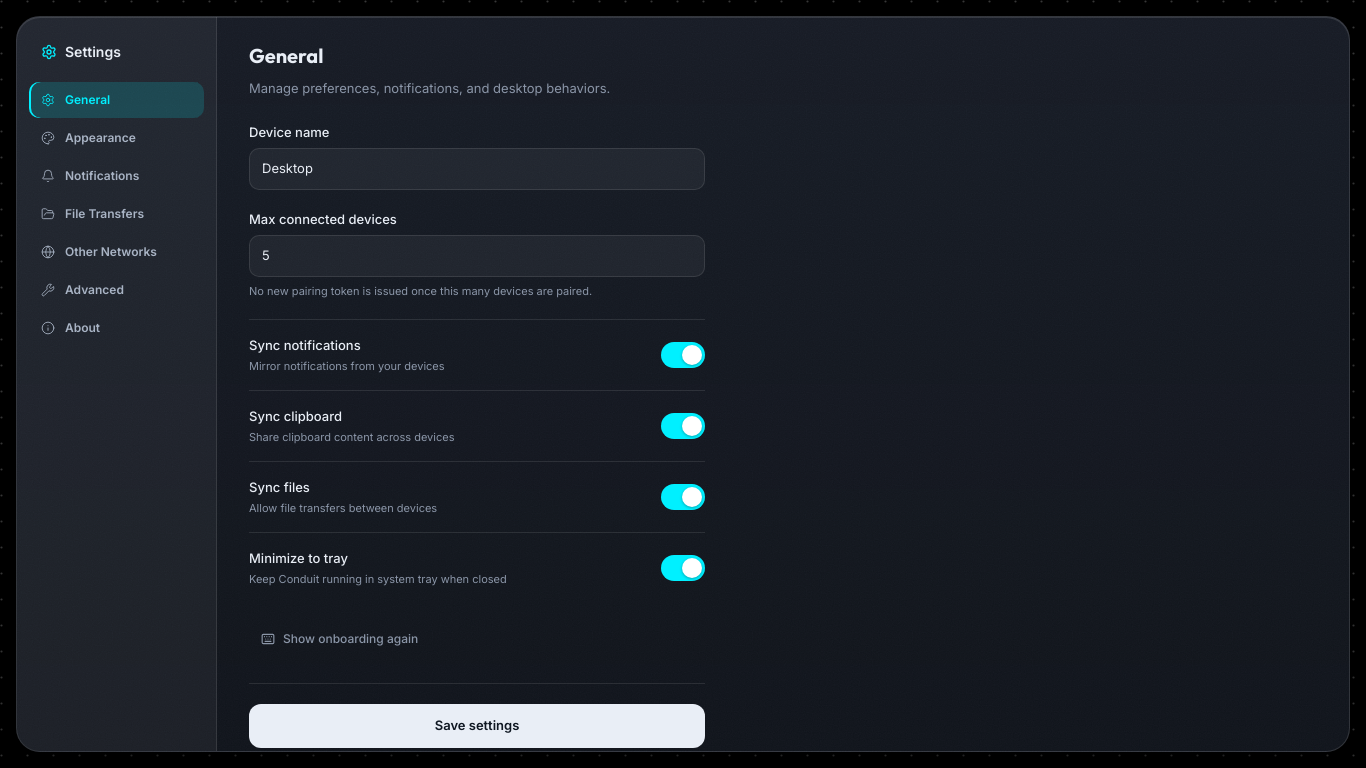
Test: Settings › warns that an empty allowlist mirrors nothing
Expected: the text "Settings" is shown, [65, 41, 121, 62]
Click the button "Notifications" at coordinates (116, 176), box [29, 158, 204, 194]
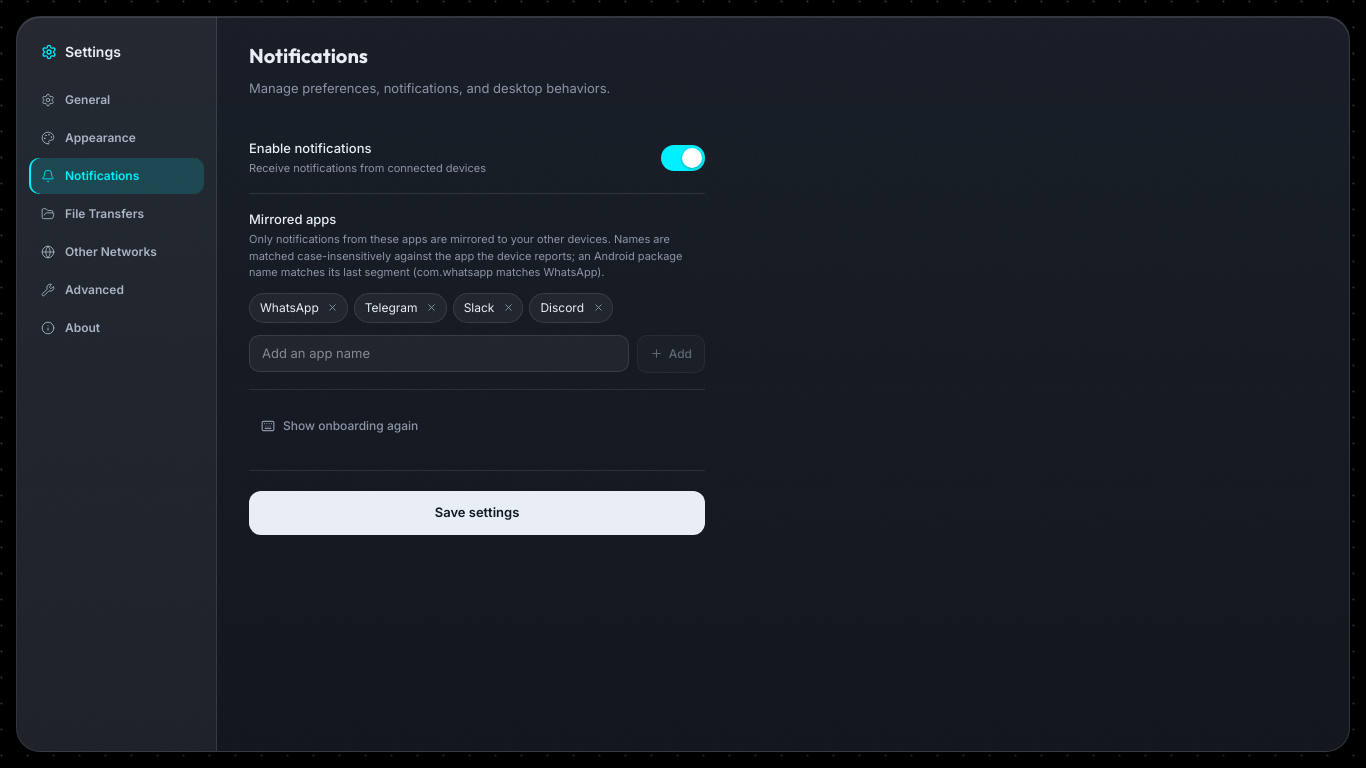
Click the button named "Remove WhatsApp" at coordinates (333, 308), box [323, 298, 343, 318]
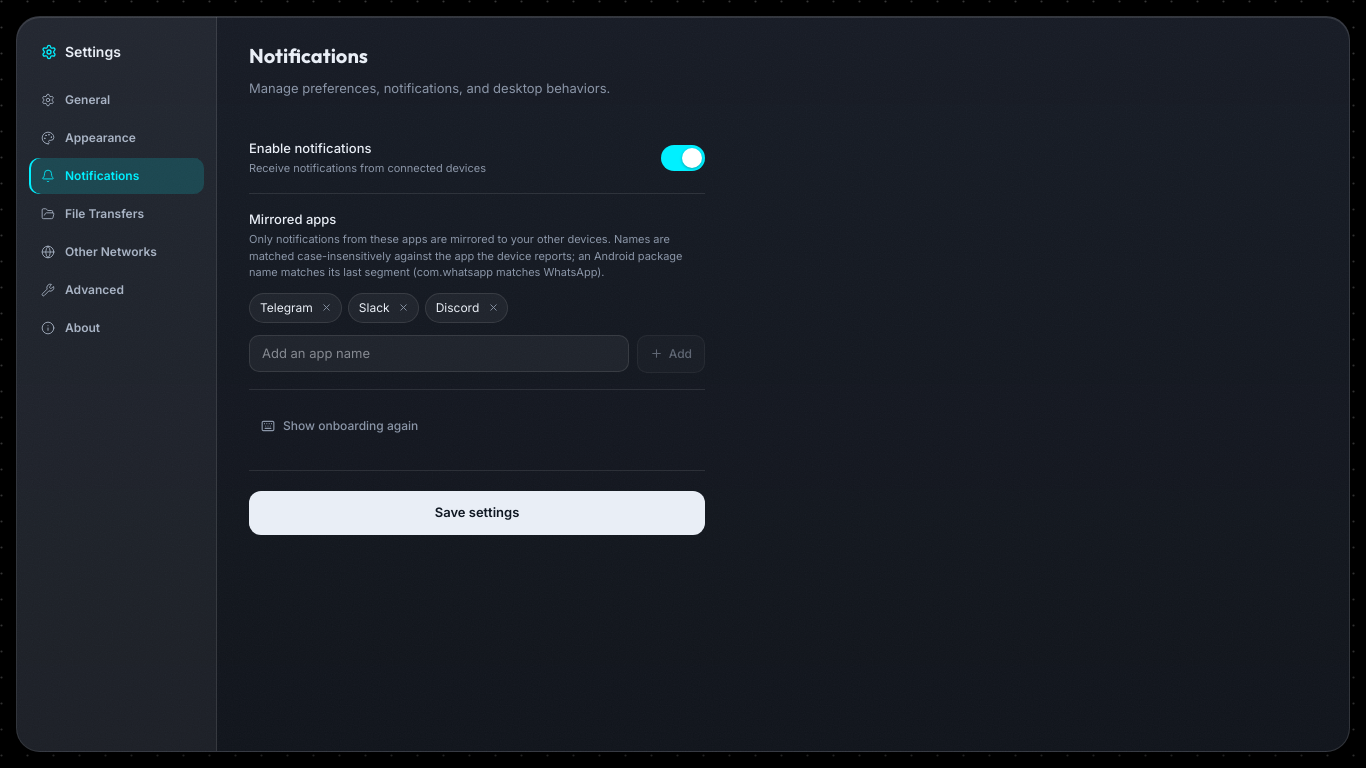
Click the button named "Remove Telegram" at coordinates (327, 308), box [317, 298, 337, 318]
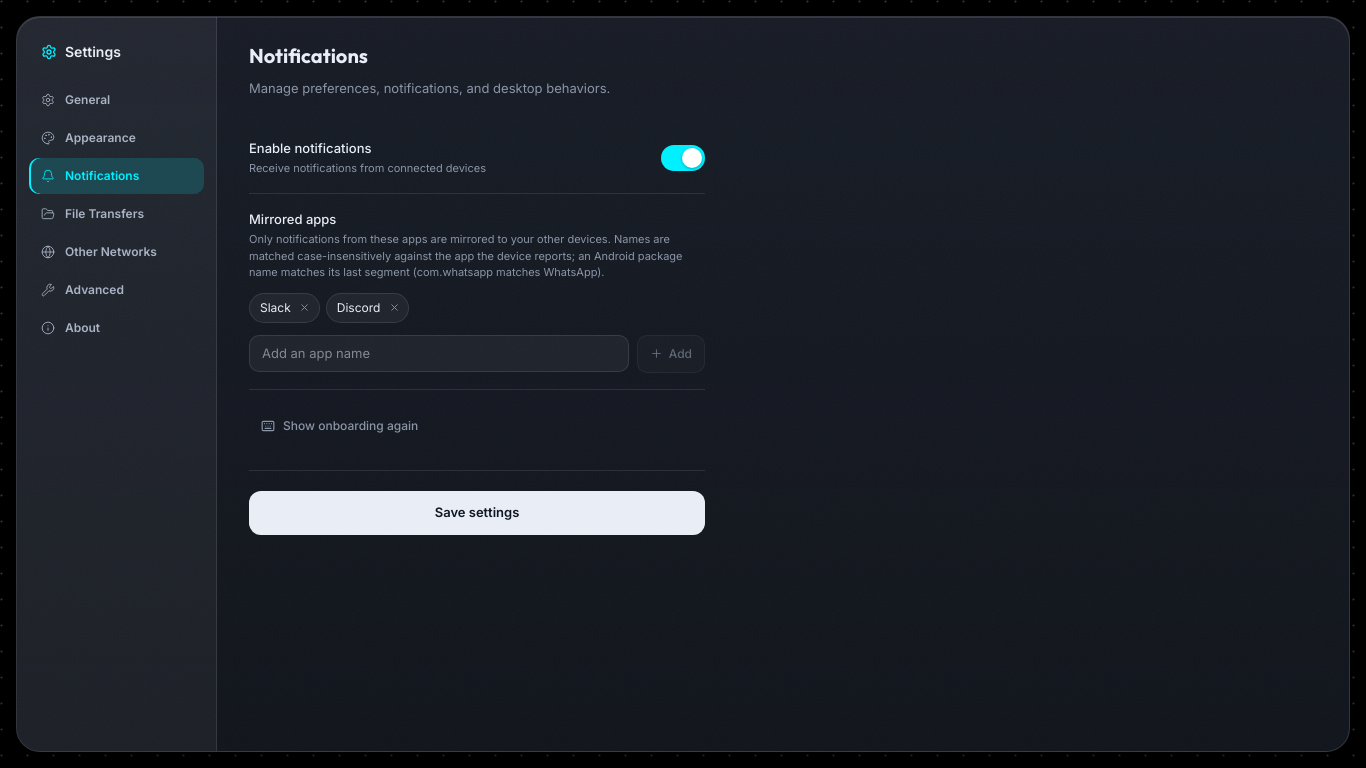
Click the button named "Remove Slack" at coordinates (305, 308), box [295, 298, 315, 318]
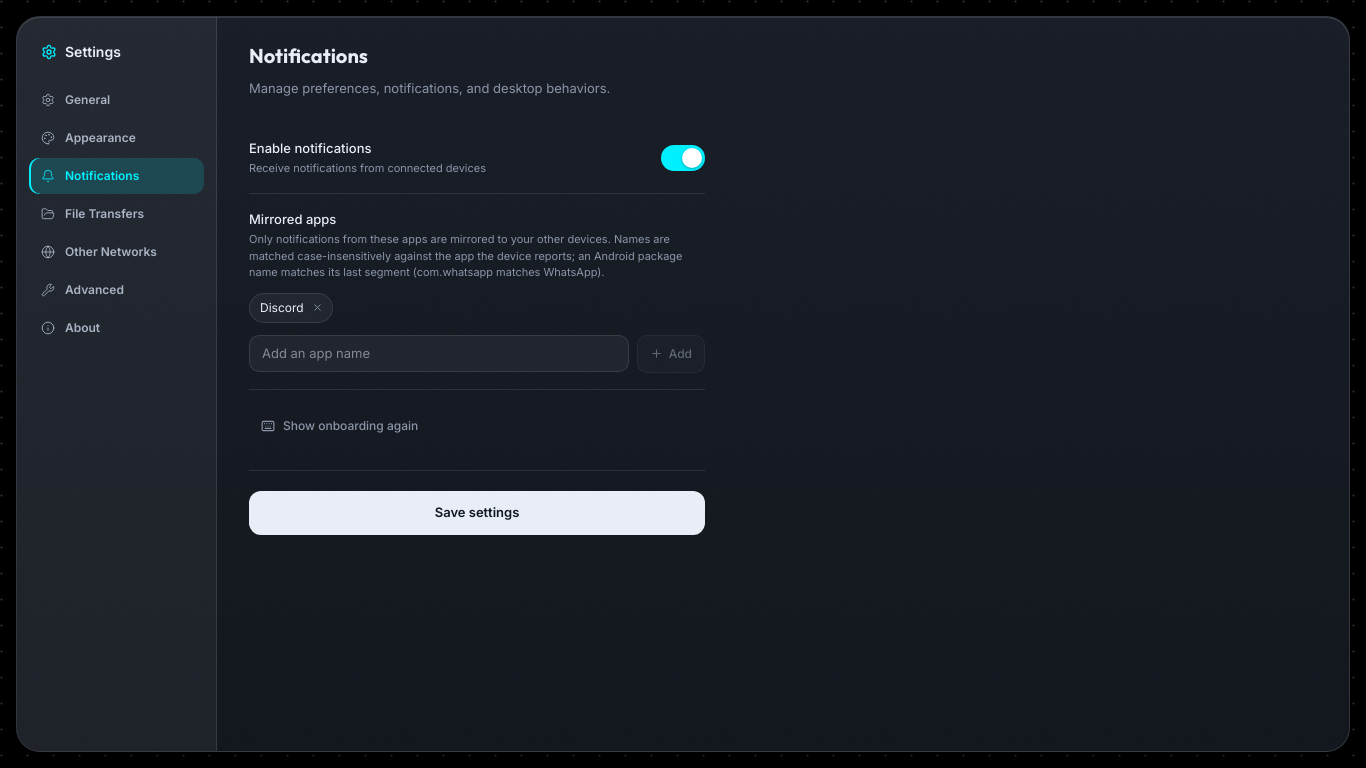
Click the button named "Remove Discord" at coordinates (318, 308), box [308, 298, 328, 318]
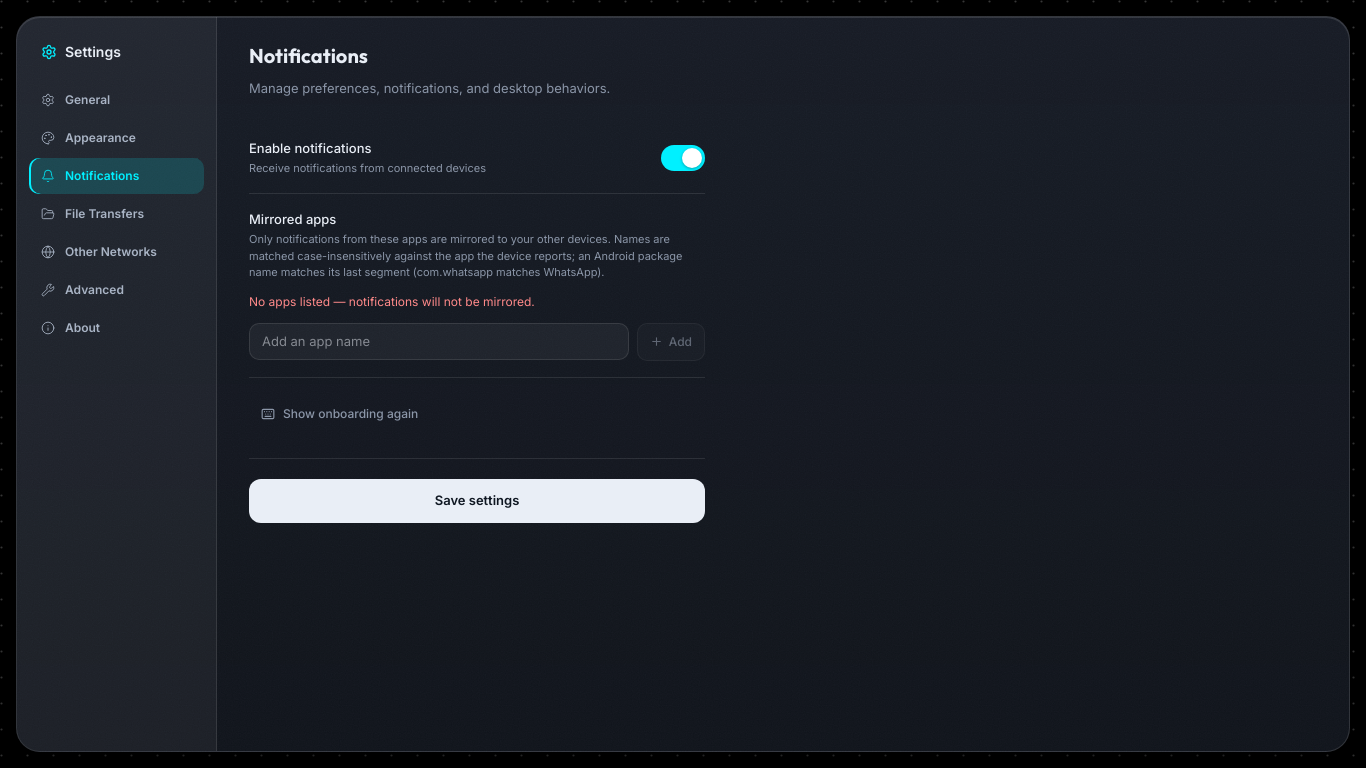
Now the text "No apps listed — notifications will not be mirrored." is shown, box [249, 294, 535, 308]
